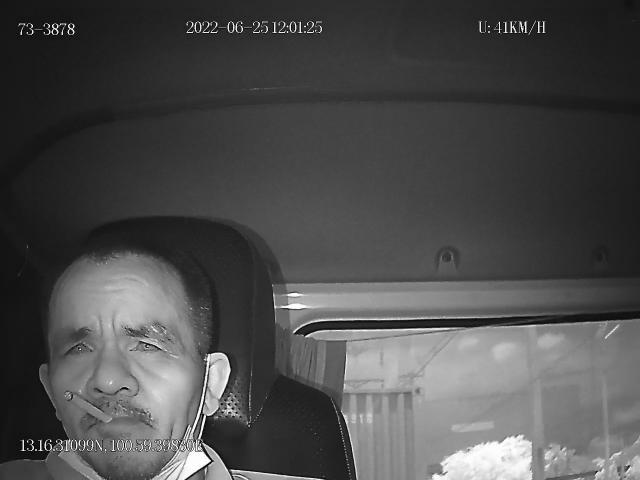SafeDriving: (124, 325, 173, 361), (57, 329, 100, 366)
Smoking: (64, 389, 114, 423)
